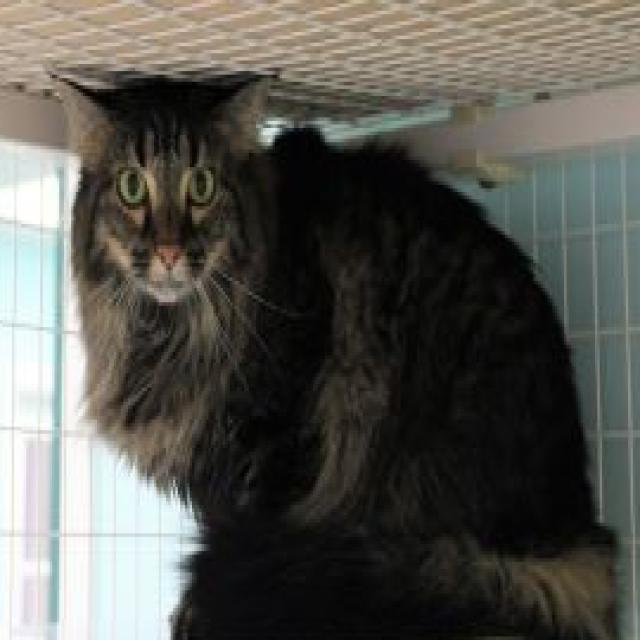Maine Coon: (38, 53, 623, 640)
